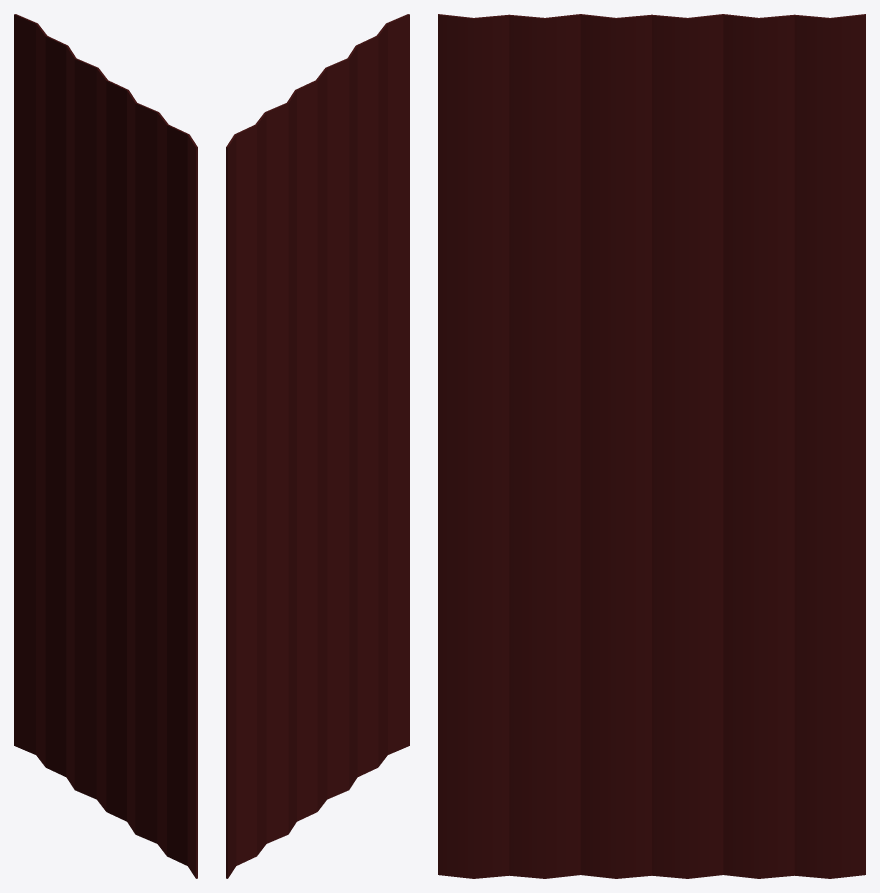
File: curtain_closed.fbx
3 renders of one model, left to right at view 1: azimuth 30°, elevation 25°; view 2: azimuth 150°, elevation 25°; view 3: azimuth 270°, elevation 25°, orthographic. The views are drawn at different scales.
Parts seen in each view (by area): view 1: curtains_drawn; view 2: curtains_drawn; view 3: curtains_drawn.
Part boxes in pixels (<box>): curtains_drawn: <box>14,14,197,878</box>; curtains_drawn: <box>226,14,409,878</box>; curtains_drawn: <box>438,14,865,878</box>.
Bounding box in the file's own units: 1.85 × 148 × 66.88.
